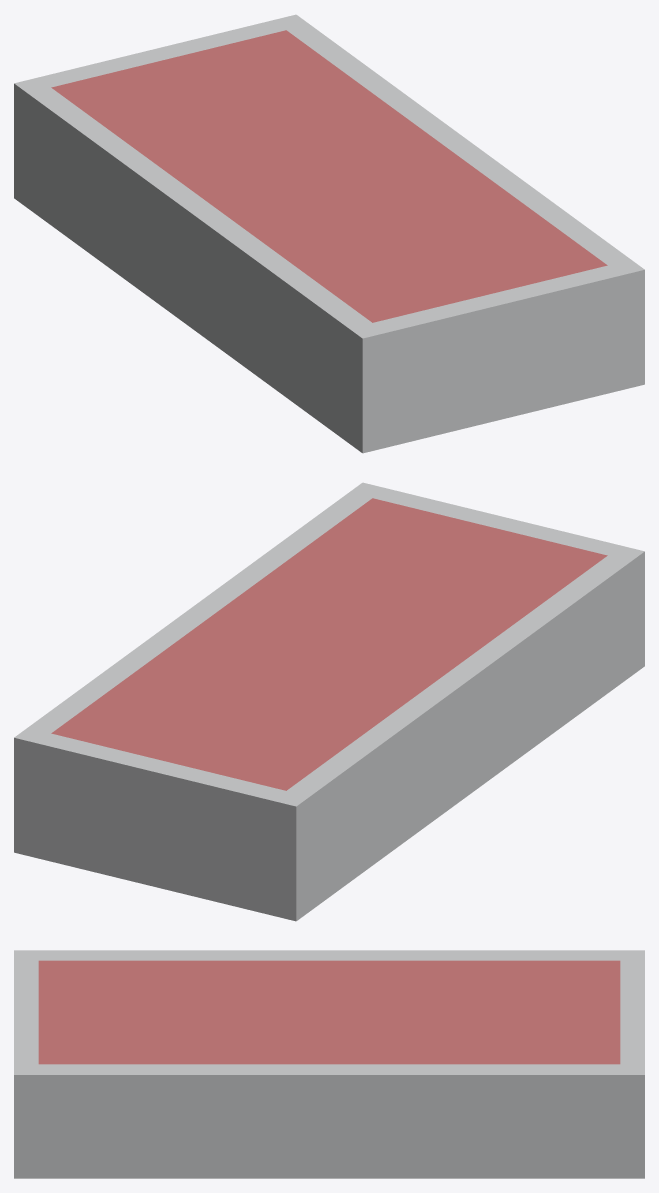
Rendered from step_02.glb.
3 views of the same model, one above another, from view 1: azimuth 30°, elevation 25°; view 2: azimuth 150°, elevation 25°; view 3: azimuth 270°, elevation 25° (orthographic). The views are drawn at different scales.
Parts seen in each view (by area): view 1: part__dispensing chute, removed__dispensing chute; view 2: part__dispensing chute, removed__dispensing chute; view 3: part__dispensing chute, removed__dispensing chute.
Part boxes in pixels (box(x1,y1,x2,y2)): part__dispensing chute: box(14, 14, 644, 453); removed__dispensing chute: box(51, 30, 607, 322); part__dispensing chute: box(14, 482, 644, 921); removed__dispensing chute: box(51, 498, 607, 790); part__dispensing chute: box(14, 950, 644, 1178); removed__dispensing chute: box(38, 960, 620, 1064).
Bounding box in the file's own units: 18 × 7 × 38.5.
